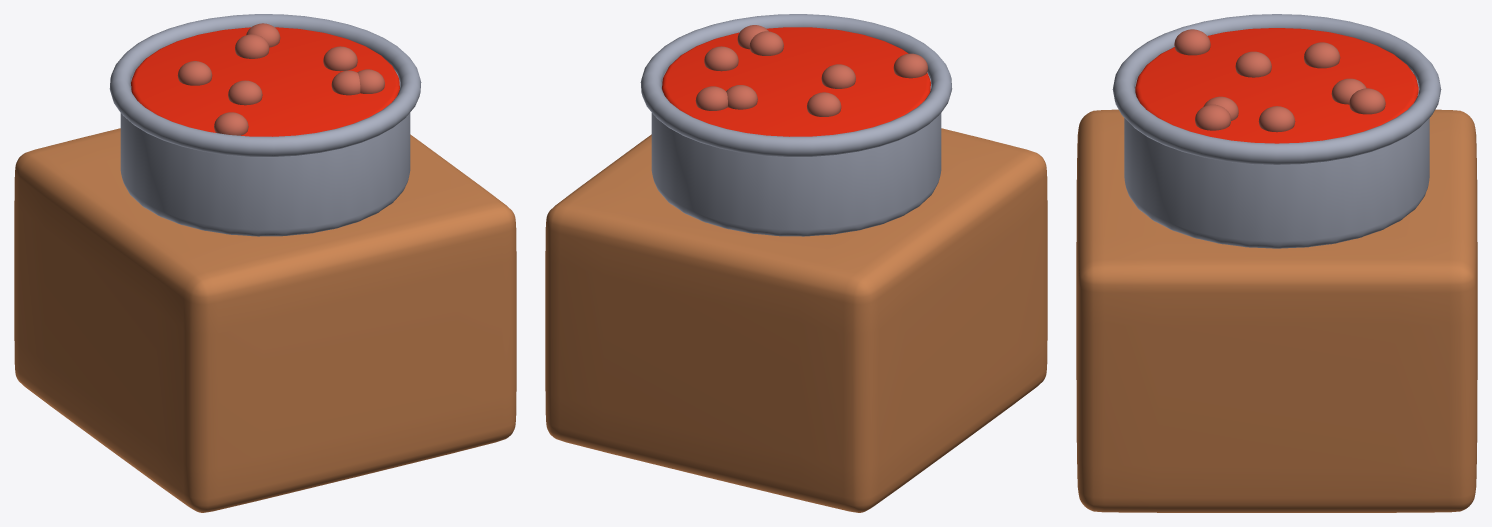
File: HotpotStation.glb
3 views of the same model, side by side, from view 1: azimuth 30°, elevation 25°; view 2: azimuth 150°, elevation 25°; view 3: azimuth 270°, elevation 25° (orthographic). The views are drawn at different scales.
Parts seen in each view (by area): view 1: Cube, Cylinder, Cylinder.001, Torus, Sphere.004, Sphere.002, Sphere.005, Sphere, Sphere.003, Sphere.007, Sphere.006; view 2: Cube, Cylinder, Cylinder.001, Torus, Sphere.002, Sphere.003, Sphere, Sphere.004, Sphere.007, Sphere.001, Sphere.005; view 3: Cube, Cylinder, Cylinder.001, Torus, Sphere.004, Sphere.002, Sphere.001, Sphere.003, Sphere.006, Sphere, Sphere.005.
Part boxes in pixels (<box>): Cube: <box>14,128,516,512</box>; Cylinder: <box>120,70,410,236</box>; Cylinder.001: <box>131,27,399,136</box>; Torus: <box>109,14,421,156</box>; Sphere.004: <box>177,61,212,85</box>; Sphere.002: <box>228,80,262,105</box>; Sphere.005: <box>235,34,269,58</box>; Sphere: <box>323,46,357,71</box>; Sphere.003: <box>214,112,248,135</box>; Sphere.007: <box>331,70,360,95</box>; Sphere.006: <box>357,69,384,93</box>; Cube: <box>545,128,1047,512</box>; Cylinder: <box>651,70,941,236</box>; Cylinder.001: <box>662,27,930,136</box>; Torus: <box>640,14,952,156</box>; Sphere.002: <box>821,64,855,88</box>; Sphere.003: <box>893,53,927,78</box>; Sphere: <box>704,46,738,71</box>; Sphere.004: <box>807,92,841,116</box>; Sphere.007: <box>749,31,783,55</box>; Sphere.001: <box>695,86,727,110</box>; Sphere.005: <box>726,85,757,109</box>; Cube: <box>1076,109,1477,512</box>; Cylinder: <box>1124,70,1429,248</box>; Cylinder.001: <box>1135,28,1418,143</box>; Torus: <box>1112,14,1441,164</box>; Sphere.004: <box>1304,42,1340,68</box>; Sphere.002: <box>1235,51,1271,77</box>; Sphere.001: <box>1349,88,1385,114</box>; Sphere.003: <box>1174,29,1210,55</box>; Sphere.006: <box>1195,104,1231,130</box>; Sphere: <box>1258,106,1295,132</box>; Sphere.005: <box>1331,78,1366,104</box>.
Size of the model in its own units: 1.1 by 1.11 by 1.1.
